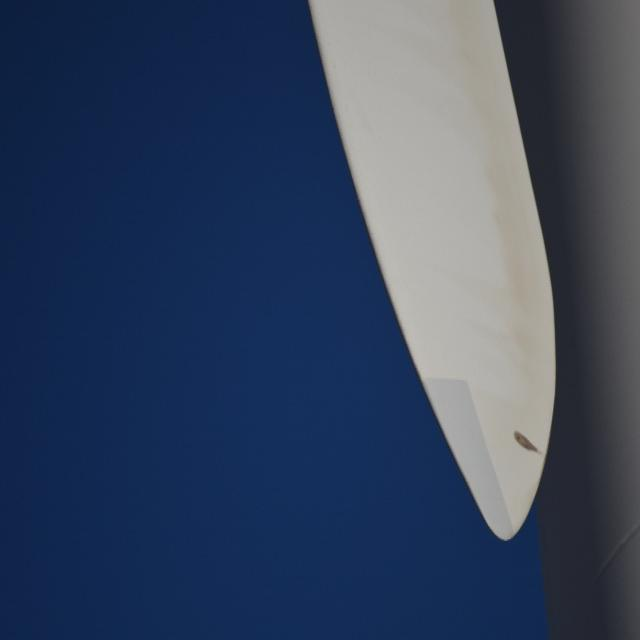Burn Mark: (513, 427, 539, 455)
